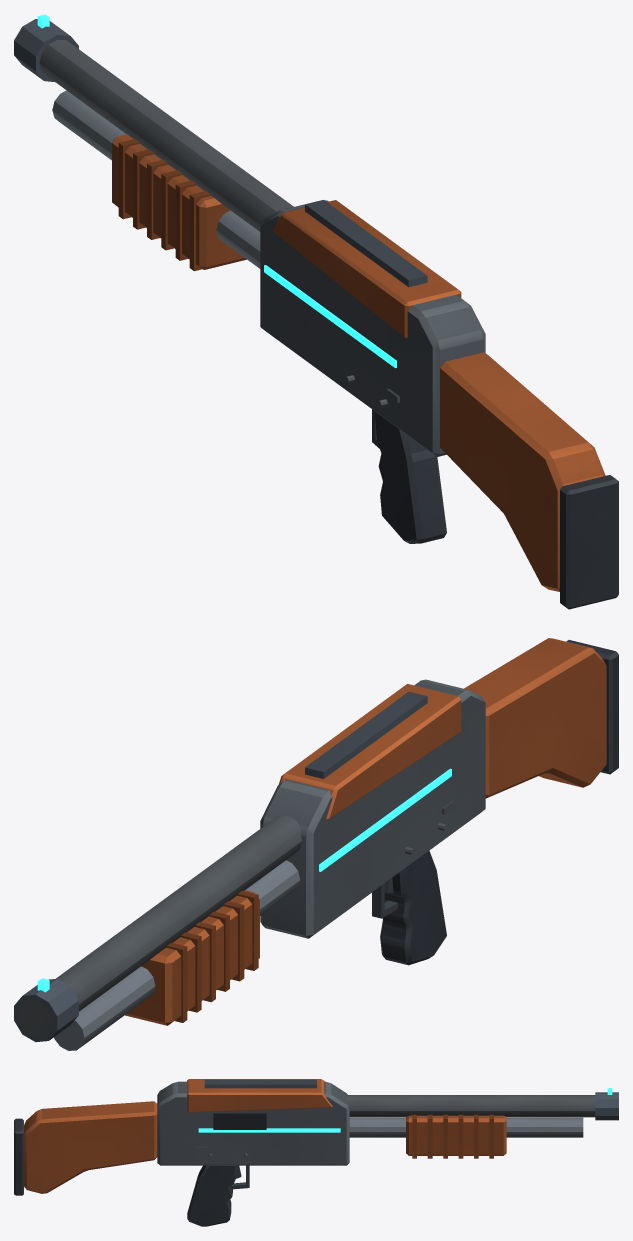
The picture shows the model from 3 angles, top to bottom: view 1: azimuth 30°, elevation 25°; view 2: azimuth 150°, elevation 25°; view 3: azimuth 270°, elevation 25°; orthographic projection. The views are drawn at different scales.
Parts seen in each view (by area): view 1: c7r-shotgun_gun, c7r-shotgun_gunGrip, c7r-shotgun_steel, c7r-shotgun_glow; view 2: c7r-shotgun_gun, c7r-shotgun_gunGrip, c7r-shotgun_steel, c7r-shotgun_glow; view 3: c7r-shotgun_gun, c7r-shotgun_gunGrip, c7r-shotgun_steel, c7r-shotgun_glow.
Part boxes in pixels (box(x1,y1,x2,y2)): c7r-shotgun_gun: box(14, 19, 605, 591); c7r-shotgun_gunGrip: box(112, 134, 618, 609); c7r-shotgun_steel: box(39, 39, 399, 406); c7r-shotgun_glow: box(37, 14, 396, 368); c7r-shotgun_gun: box(14, 638, 606, 1050); c7r-shotgun_gunGrip: box(125, 640, 618, 1025); c7r-shotgun_steel: box(17, 800, 455, 1037); c7r-shotgun_glow: box(37, 768, 451, 992); c7r-shotgun_gun: box(24, 1079, 618, 1193); c7r-shotgun_gunGrip: box(14, 1114, 506, 1226); c7r-shotgun_steel: box(195, 1095, 595, 1158); c7r-shotgun_glow: box(198, 1088, 612, 1132).
Bounding box in the file's own units: 0.07 × 0.2641 × 1.02.
4 materials, 3 textured.
